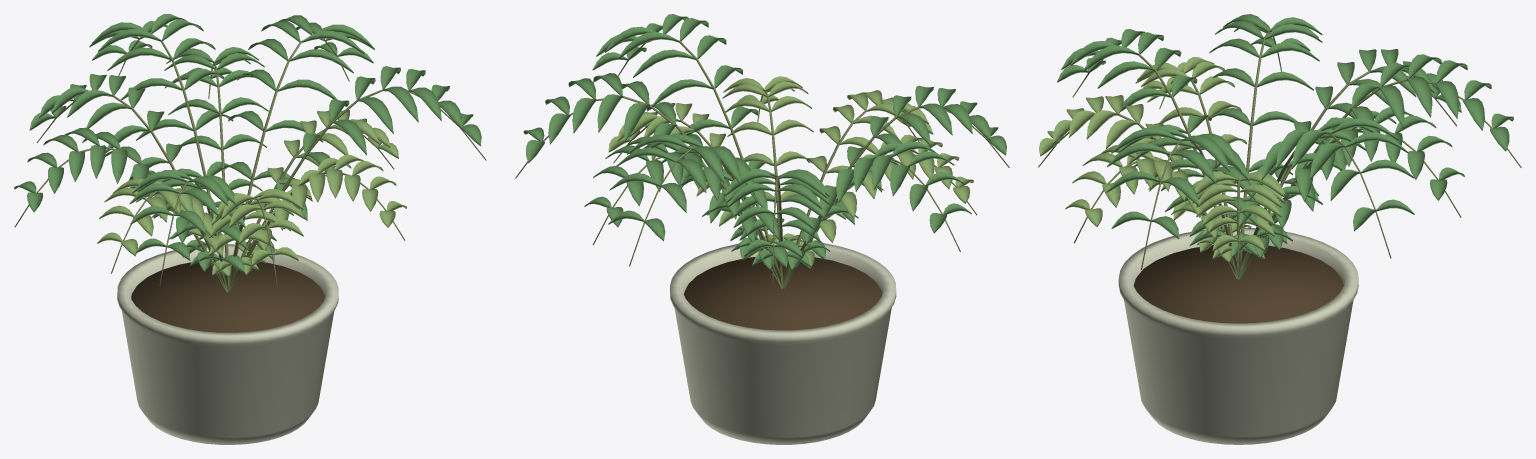
Rendered from fern.glb.
The picture shows the model from 3 angles, left to right: view 1: azimuth 30°, elevation 25°; view 2: azimuth 150°, elevation 25°; view 3: azimuth 270°, elevation 25°; orthographic projection. The views are drawn at different scales.
Parts seen in each view (by area): view 1: fern__leaves, fern__body, fern__young_leaves, fern__soil, fern__stems; view 2: fern__leaves, fern__body, fern__soil, fern__young_leaves, fern__stems; view 3: fern__leaves, fern__body, fern__young_leaves, fern__soil, fern__stems.
Part boxes in pixels (x1,y1,x2,y2): fern__leaves: (14,14,481,273); fern__body: (117,244,338,444); fern__young_leaves: (97,110,406,277); fern__soil: (131,259,325,332); fern__stems: (14,37,486,292); fern__leaves: (523,14,1006,270); fern__body: (670,241,896,444); fern__soil: (684,257,881,330); fern__young_leaves: (608,76,973,268); fern__stems: (515,40,1009,288); fern__leaves: (1057,14,1513,258); fern__body: (1118,228,1358,444); fern__young_leaves: (1039,57,1285,262); fern__soil: (1134,245,1343,323); fern__stems: (1038,31,1521,279).
Bounding box in the file's own units: 0.4669 × 0.3477 × 0.4433.
